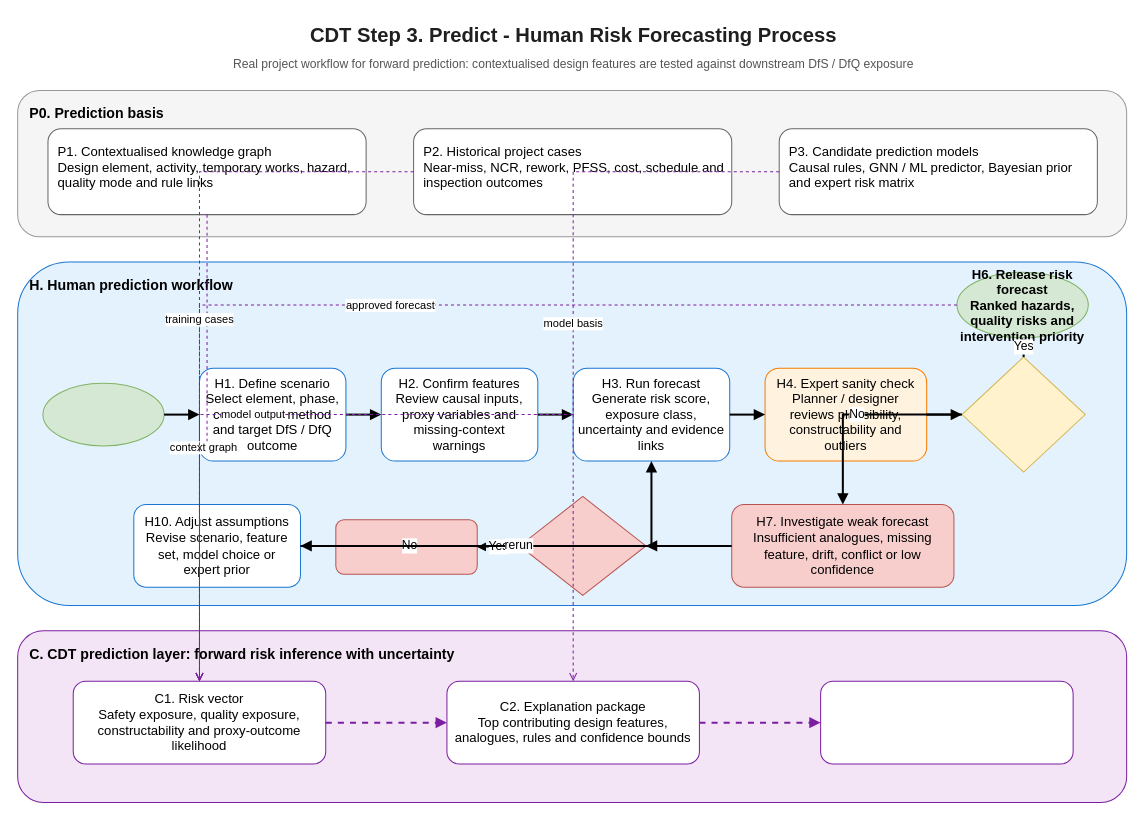
The diagram is 1144 pixels wide and 820 high, and some of its shapes have lost their labels. Each missing label, with the centre of its shape:
"C3. Handoff to Step 4 Actionable warning set for design-stage decision making" belongs at [946,722].
"H0. Start Design option ready" belongs at [103,414].
"H5. Prediction credible?" belongs at [1023,414].
"H8. Need new context?" belongs at [582,545].
"H9. Return to Step 2 Request contextualisation update" belongs at [406,546].
